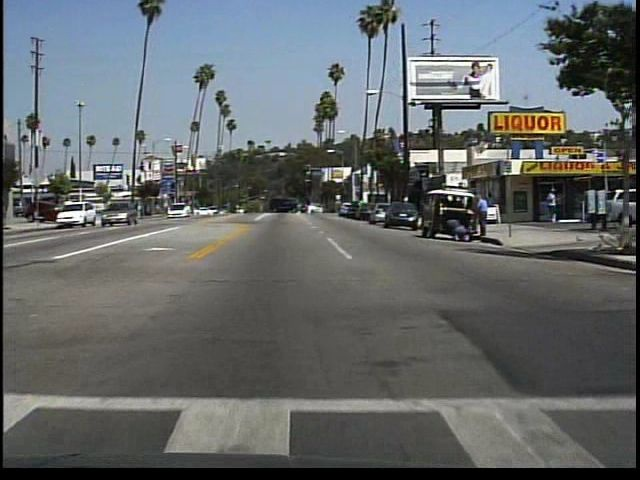person: (475, 190, 495, 240), (545, 186, 561, 227), (446, 216, 469, 244)
